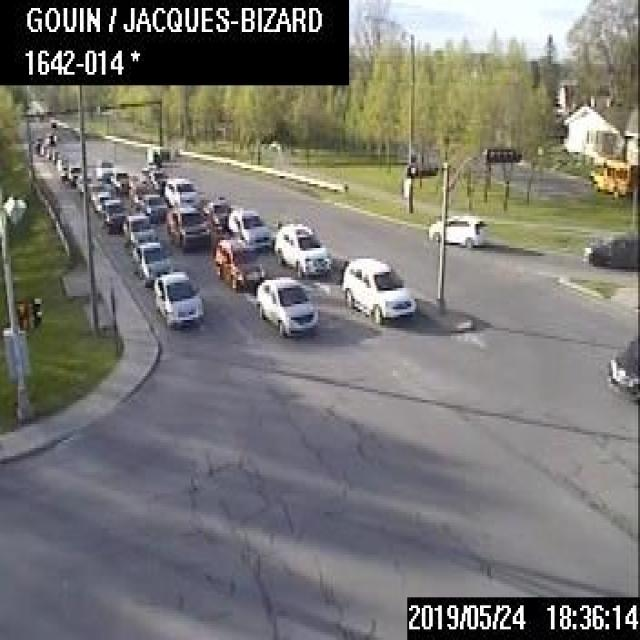bus: (588, 157, 638, 196)
vehicle: (341, 255, 415, 323), (255, 276, 317, 336), (273, 221, 329, 276), (152, 270, 202, 326), (214, 237, 265, 288), (606, 336, 638, 402), (582, 230, 638, 266), (165, 205, 209, 249), (427, 213, 486, 245), (130, 239, 170, 284), (227, 208, 270, 249), (121, 213, 157, 246), (163, 175, 198, 208), (202, 198, 231, 230), (99, 197, 124, 232), (139, 192, 164, 220), (140, 166, 164, 191), (108, 168, 129, 193), (95, 158, 114, 180), (92, 188, 110, 210), (66, 162, 80, 184), (86, 181, 102, 200), (75, 172, 90, 192), (58, 164, 66, 179)
